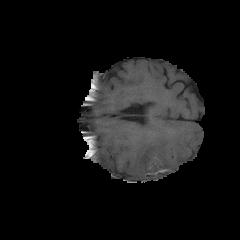glioma: (125, 126, 195, 176)
